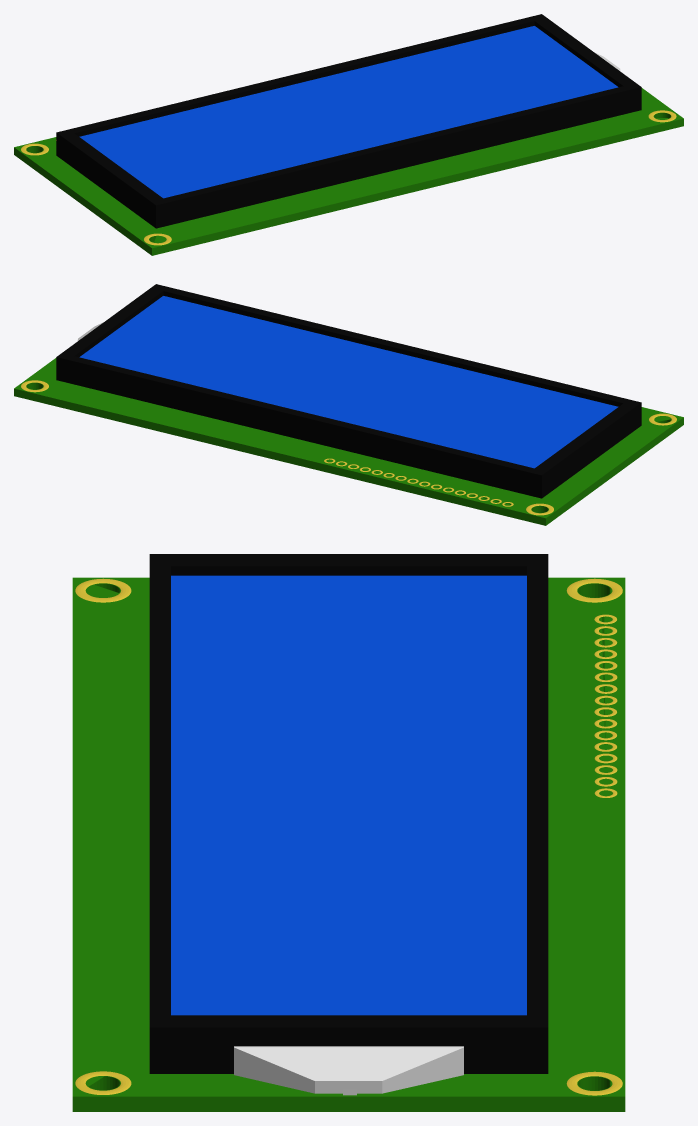
Rendered from Pantalla Led.fbx.
3 views of the same model, one above another, from view 1: azimuth 30°, elevation 25°; view 2: azimuth 150°, elevation 25°; view 3: azimuth 270°, elevation 25° (orthographic). The views are drawn at different scales.
Visible parts, largest first — view 1: Cubo.001, Cubo, Cube; view 2: Cubo.001, Cubo, Cube; view 3: Cubo.001, Cube, Cubo, Cubo.002.
Boxes of the visible parts, x1,y1,x2,y2 form: Cubo.001: (79,26,618,198); Cubo: (56,14,641,228); Cube: (14,88,683,255); Cubo.001: (79,296,618,468); Cubo: (56,284,641,498); Cube: (14,358,683,525); Cubo.001: (171,575,526,1015); Cube: (72,577,625,1111); Cubo: (149,554,548,1073); Cubo.002: (234,1046,463,1093).
Size of the model in its own units: 2189 by 121 by 984.
